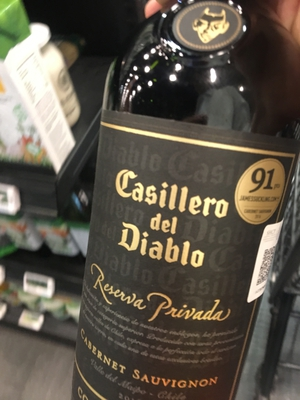casillero del diablo reserva privada cabernet sauvignon: (67, 1, 298, 391)
